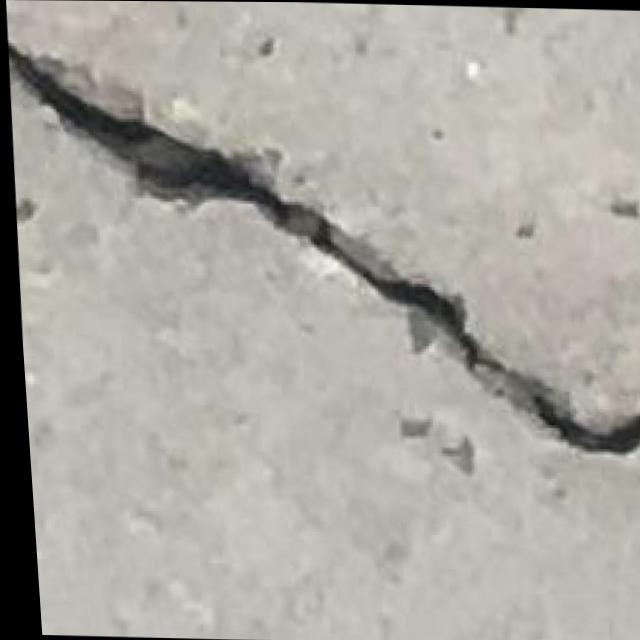Crack: (2, 39, 640, 477)
